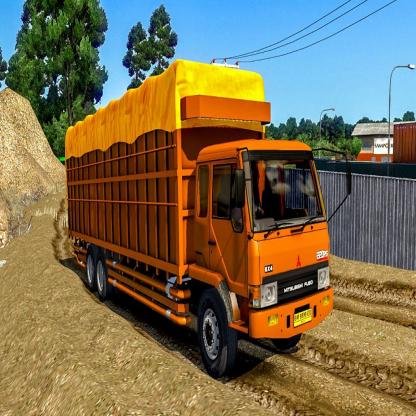truck: (66, 62, 350, 373)
